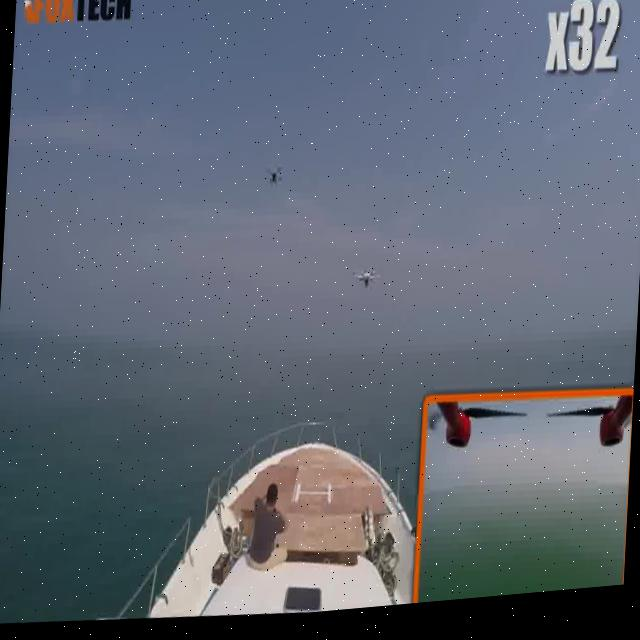drone: (346, 259, 379, 308), (262, 155, 288, 196)
